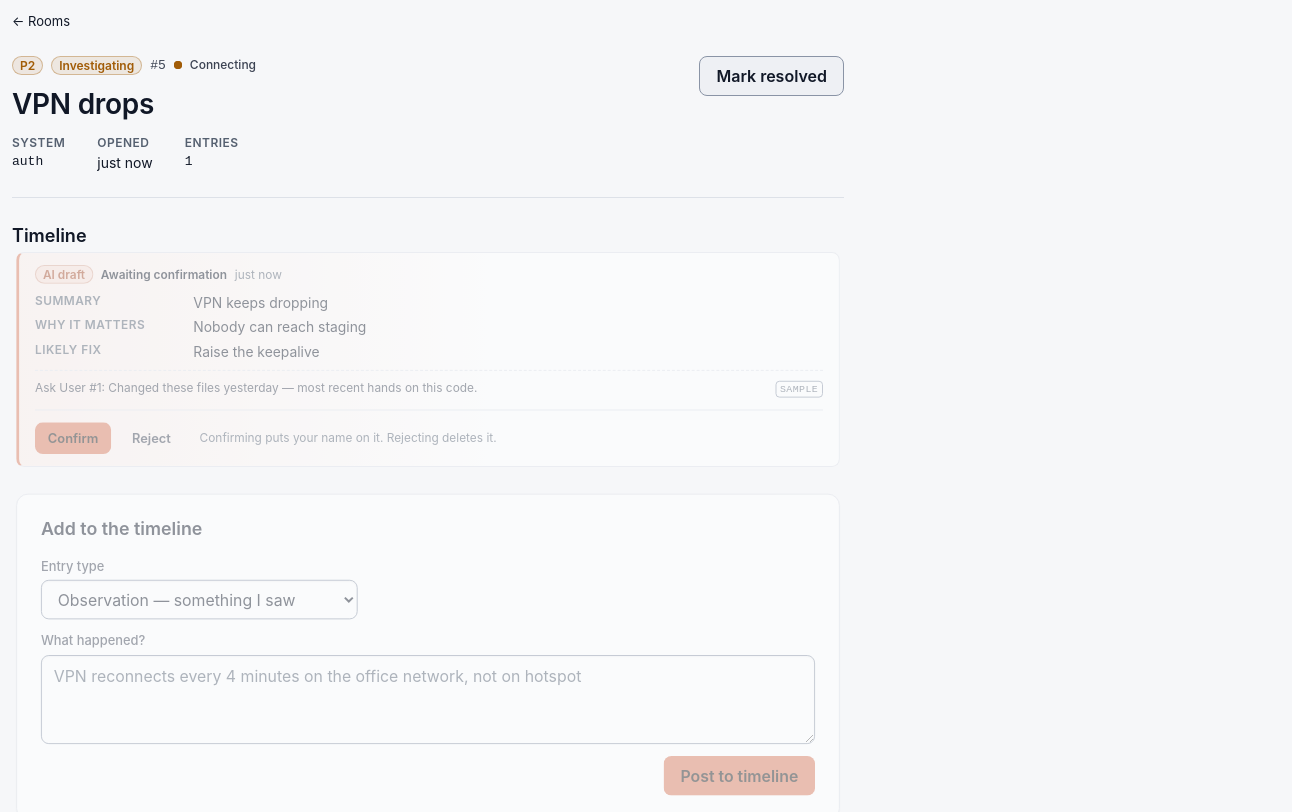
it: RoomDetailsPage › AI drafts › confirms a draft: it becomes yours, keeps its AI draft badge, and loses its buttons
Expected: the heading "VPN drops" is shown, [12,87,154,121]
Click the button with aria-label "Confirm AI draft 1".
click(73, 438)  # box [35,422,111,454]
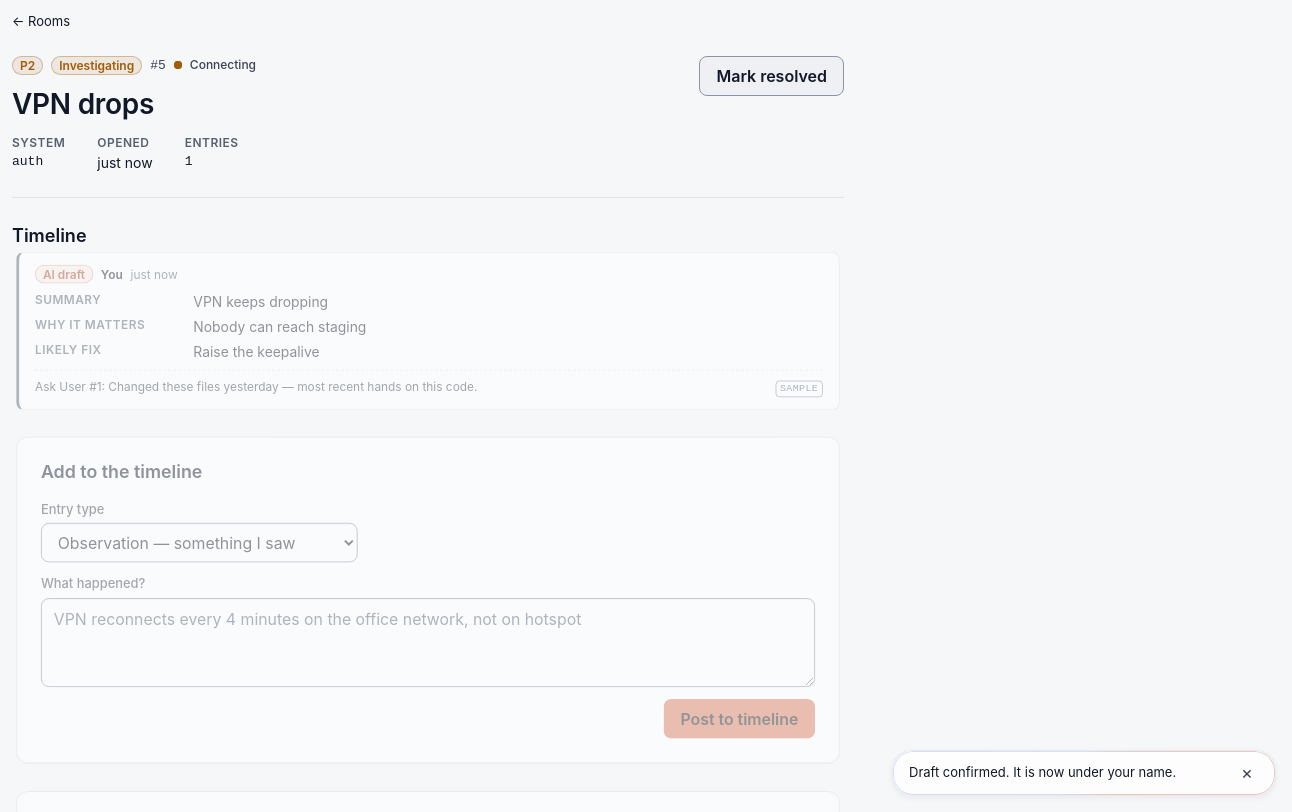
Expected: the text "AI draft" is shown, [35,265,93,284]
Result: the text "You" is shown at [101,265,123,283]
